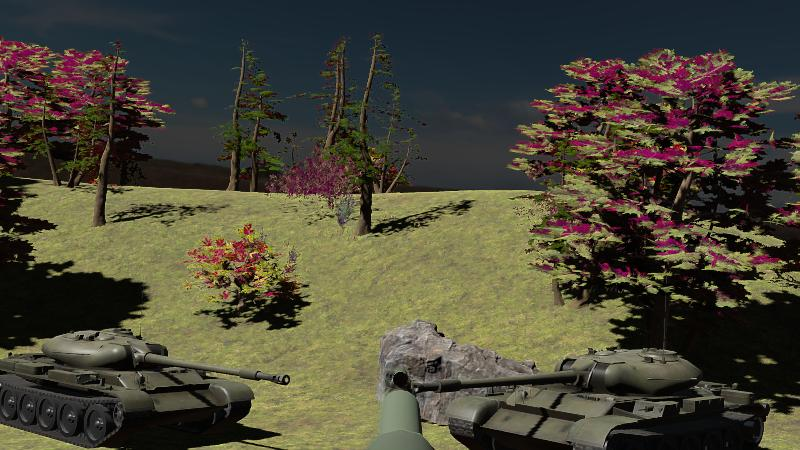Tank: (416, 342, 769, 450), (0, 328, 290, 449)
